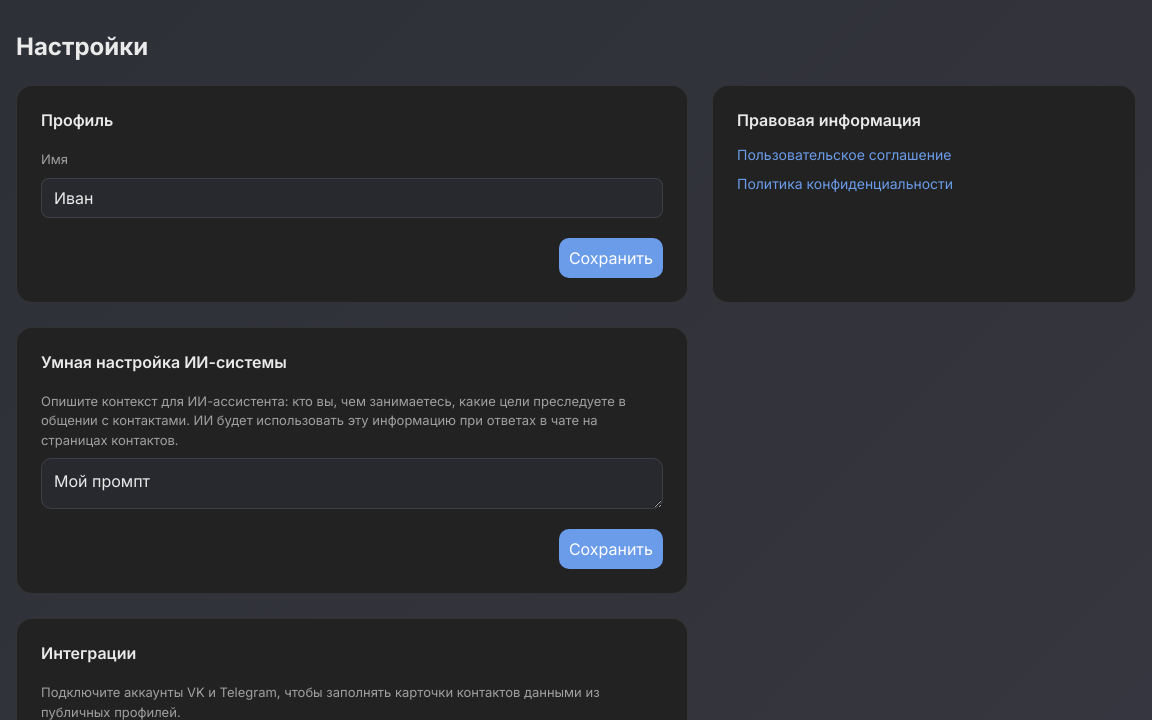
Test case: SettingsPage › profile section › shows "✓ Сохранено" after successful name save
Click the 1st button "Сохранить" at (611, 258), box [559,238,663,278]
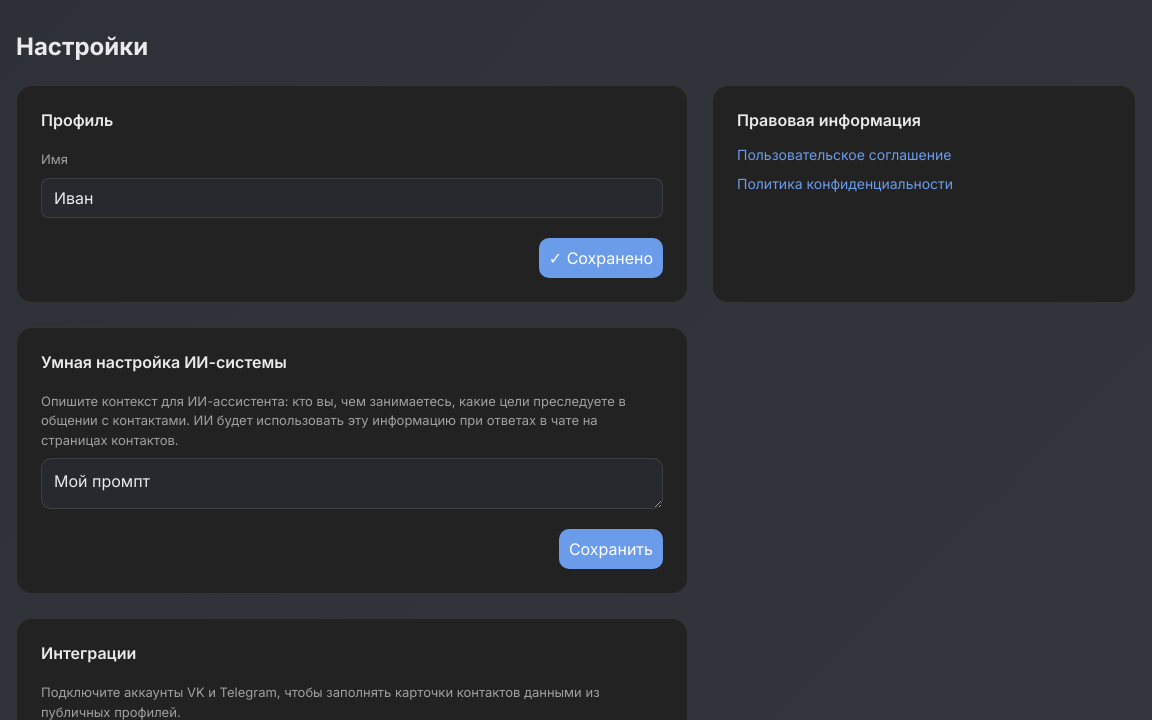
expect the button "✓ Сохранено" is shown: met, box [539,238,663,278]
